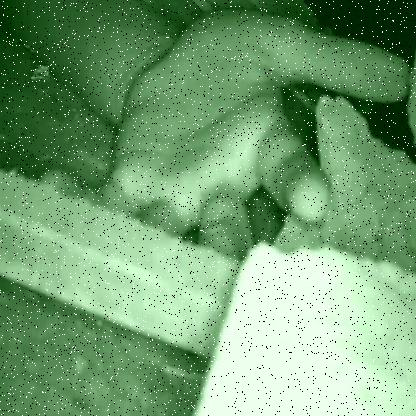hand: (15, 0, 415, 264)
